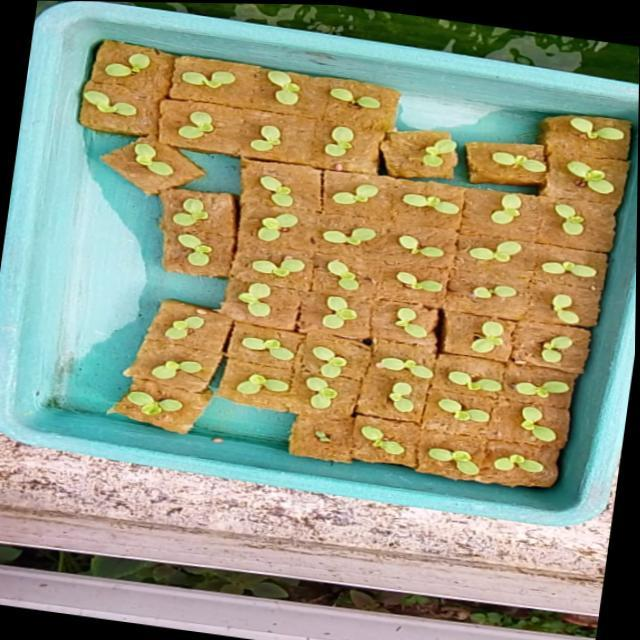Baby: (153, 148, 209, 194), (566, 202, 628, 243), (114, 55, 183, 90), (127, 88, 183, 125), (277, 256, 328, 290), (420, 316, 469, 350), (492, 292, 556, 318), (271, 344, 328, 373), (266, 221, 324, 249), (576, 345, 619, 381), (464, 461, 517, 490), (155, 400, 211, 426), (194, 75, 258, 97), (548, 391, 611, 413), (394, 438, 440, 468), (409, 367, 468, 390), (195, 198, 232, 234), (425, 241, 476, 266), (560, 418, 595, 454), (482, 381, 538, 403), (266, 290, 300, 326), (505, 330, 540, 364), (291, 77, 325, 112), (499, 247, 553, 269), (354, 304, 388, 338), (343, 355, 378, 388), (285, 181, 318, 214), (354, 267, 388, 299), (337, 385, 369, 418), (425, 279, 473, 301), (350, 234, 404, 253), (180, 369, 231, 389), (205, 119, 241, 147), (193, 324, 233, 349), (530, 467, 582, 486), (574, 267, 631, 284), (521, 200, 553, 230), (266, 388, 316, 407), (350, 132, 380, 163), (203, 249, 238, 275), (585, 302, 613, 333), (275, 131, 306, 157), (423, 393, 448, 425), (483, 416, 525, 434), (368, 191, 403, 211)
